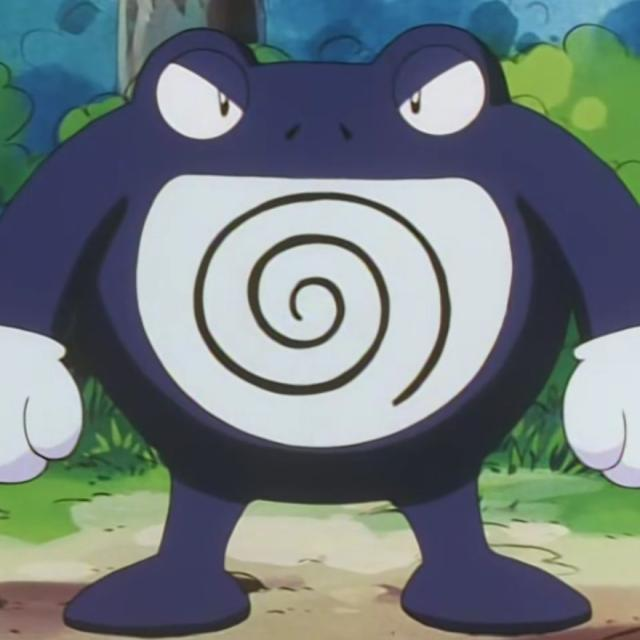Poliwrath: (33, 28, 604, 628)
